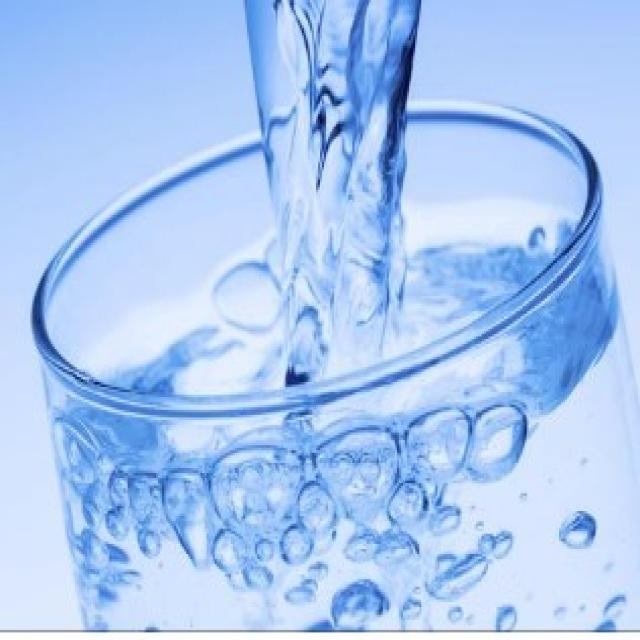electronic: (30, 88, 639, 640)
